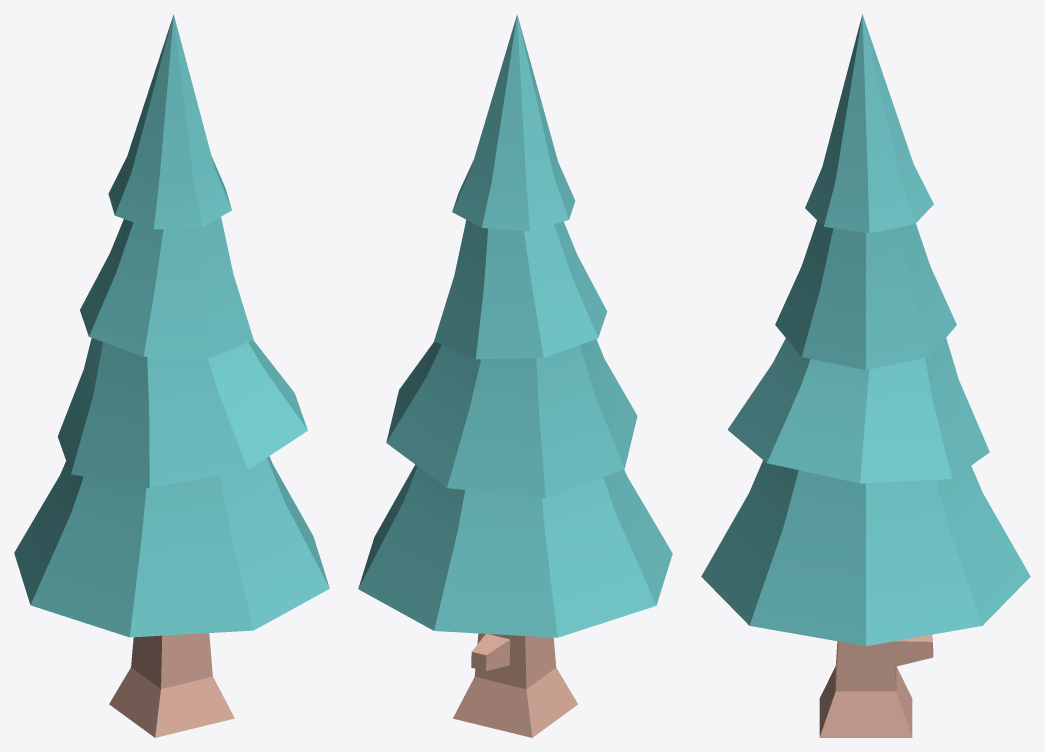
File: tree_pineRoundF.glb
The picture shows the model from 3 angles, left to right: view 1: azimuth 30°, elevation 25°; view 2: azimuth 150°, elevation 25°; view 3: azimuth 270°, elevation 25°; orthographic projection.
Parts seen in each view (by area): view 1: tree_pineRoundF; view 2: tree_pineRoundF; view 3: tree_pineRoundF.
Boxes of the visible parts, box(x1,y1,x2,y2) form: tree_pineRoundF: box(14, 14, 329, 737); tree_pineRoundF: box(358, 14, 672, 737); tree_pineRoundF: box(701, 14, 1030, 737).
Bounding box in the file's own units: 0.532 × 1.25 × 0.532.
Materials: 1 (1 with a texture image).
